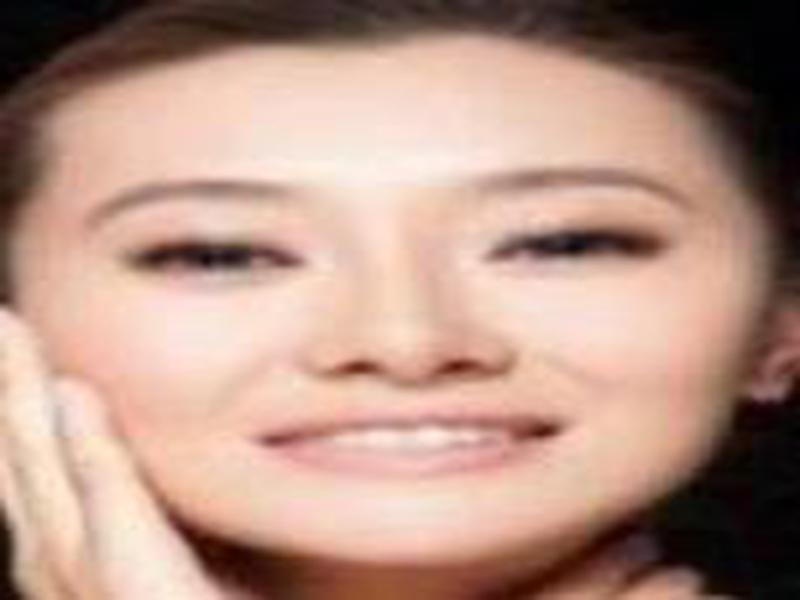without_mask: (40, 57, 734, 568)
